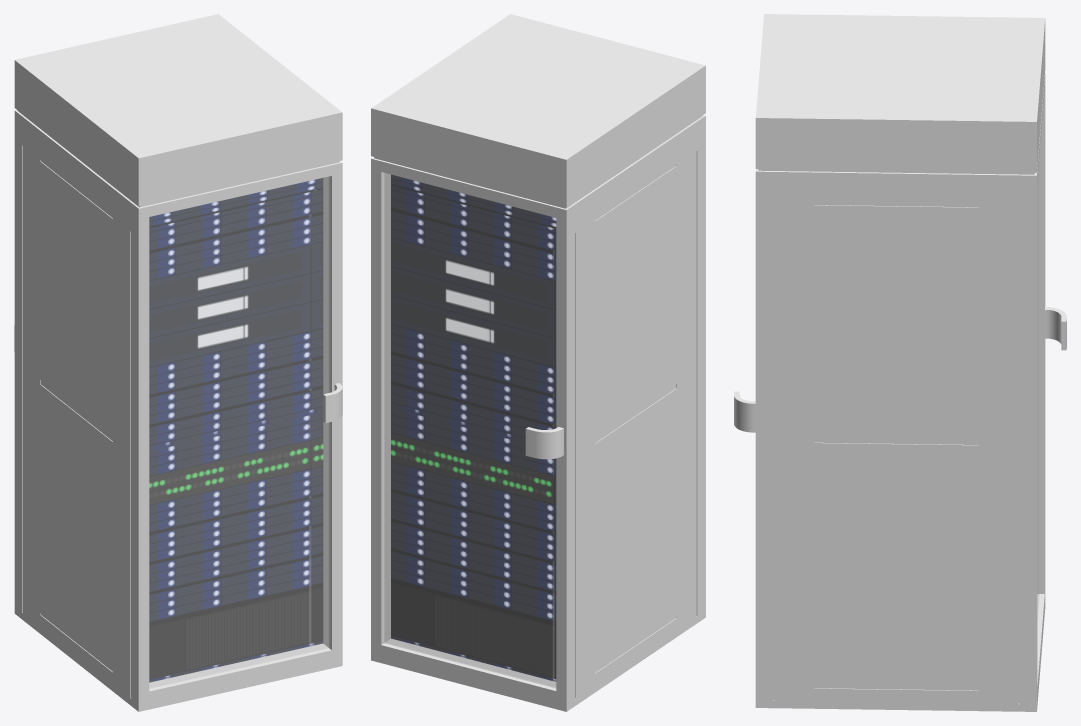
The model's file is data.glb.
3 renders of one model, left to right at view 1: azimuth 30°, elevation 25°; view 2: azimuth 150°, elevation 25°; view 3: azimuth 270°, elevation 25°, orthographic. The views are drawn at different scales.
Parts seen in each view (by area): view 1: Object_2; view 2: Object_2; view 3: Object_2.
Part boxes in pixels (bbox=[...]): Object_2: bbox=[14, 14, 342, 711]; Object_2: bbox=[371, 14, 705, 711]; Object_2: bbox=[734, 14, 1066, 711].
Size of the model in its own units: 0.9082 by 2.31 by 1.18.
3 materials, 1 textured.
